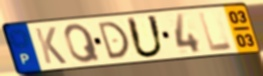4: (173, 12, 204, 55)
D: (96, 20, 132, 61)
K: (33, 26, 69, 66)
L: (197, 10, 235, 53)
Q: (63, 22, 103, 65)
U: (125, 14, 167, 60)
